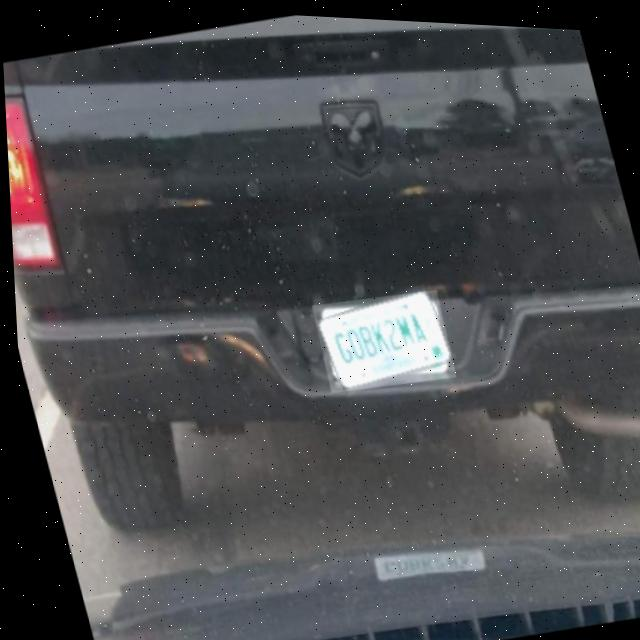LicensePlate: (312, 286, 449, 387)
